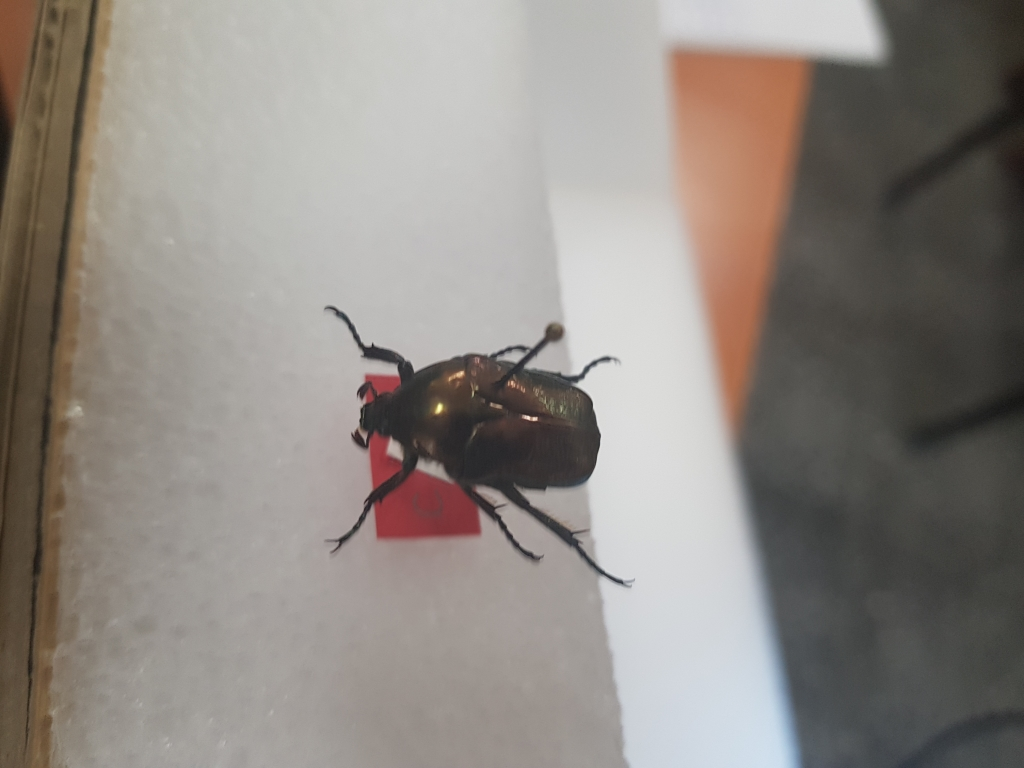Protaetia_besucheti: (307, 275, 648, 597)
